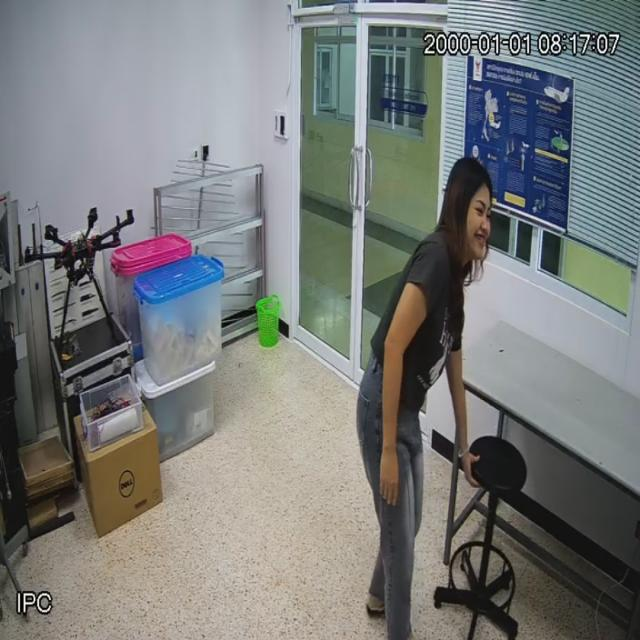normal: (352, 144, 500, 640)
